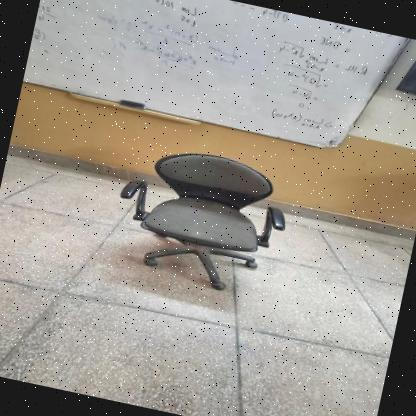chair: (99, 132, 303, 302)
